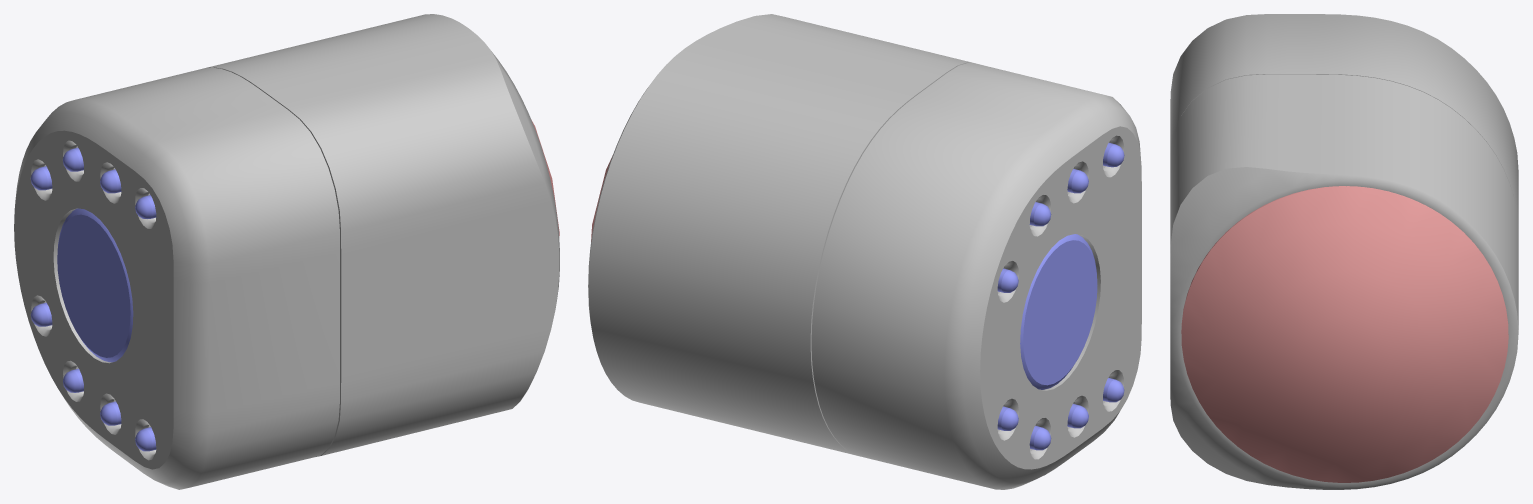
File: Alt.fbx
The picture shows the model from 3 angles, left to right: view 1: azimuth 30°, elevation 25°; view 2: azimuth 150°, elevation 25°; view 3: azimuth 270°, elevation 25°; orthographic projection. The views are drawn at different scales.
Visible parts, largest first — view 1: Alt_body_back, Alt_body_front, Magnet, pin; view 2: Alt_body_back, Alt_body_front, Magnet, pin; view 3: lense_outer, Alt_body_front, Alt_body_back.
Part boxes in pixels (bbox=[...]): Alt_body_back: bbox=[14, 67, 339, 489]; Alt_body_front: bbox=[206, 14, 559, 456]; Magnet: bbox=[57, 208, 133, 362]; pin: bbox=[30, 147, 156, 451]; Alt_body_back: bbox=[811, 62, 1141, 489]; Alt_body_front: bbox=[588, 14, 975, 456]; Magnet: bbox=[1020, 234, 1097, 389]; pin: bbox=[997, 142, 1124, 450]; lense_outer: bbox=[1181, 186, 1508, 482]; Alt_body_front: bbox=[1170, 74, 1518, 489]; Alt_body_back: bbox=[1170, 14, 1518, 229].
Size of the model in its own units: 2.17 by 1.6 by 1.6.
